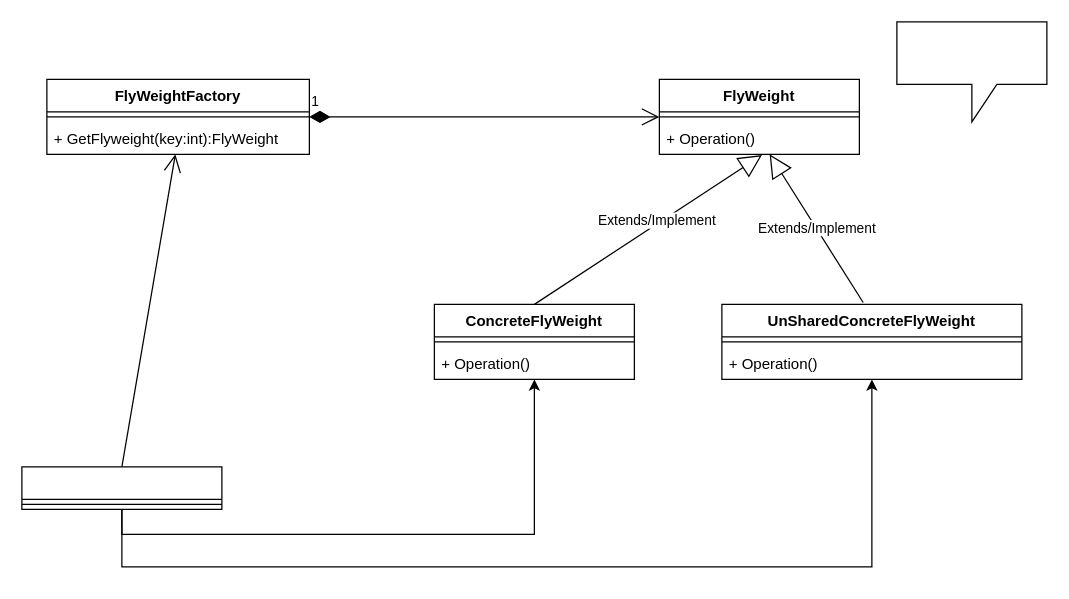
This 1069x599 diagram has some shape labels left out. Here are the shapes that lost their labels. From the top down, the centre of each, then its label:
At (x=971, y=71): "抽象类，或者接口".
At (x=121, y=487): "Client".
